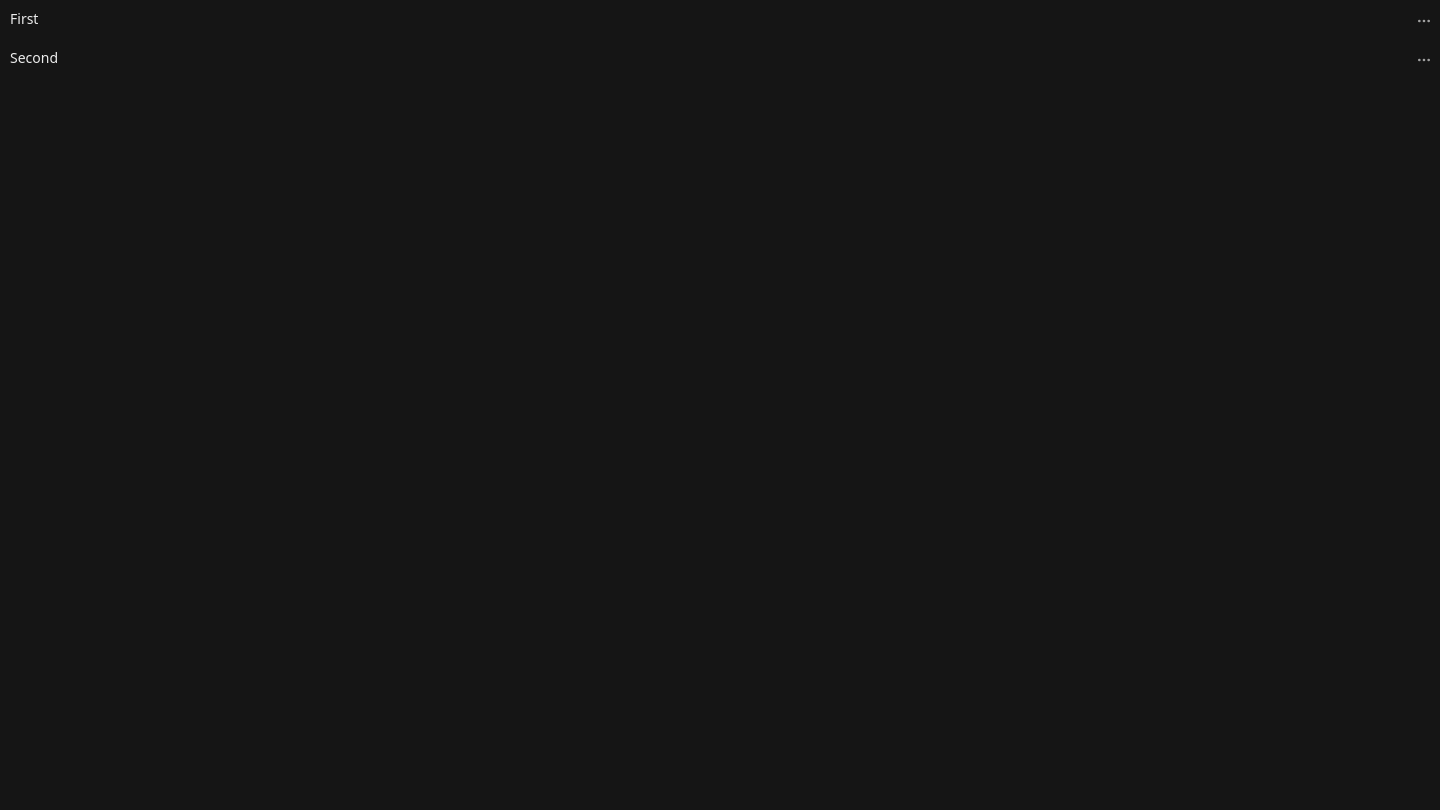
Test: sidebar session actions › uses an accessible rename dialog, keeps failed input, and submits the selected session
Click the button named "更多會話操作 Second": (1423, 60) left=1410, top=47, right=1436, bottom=73
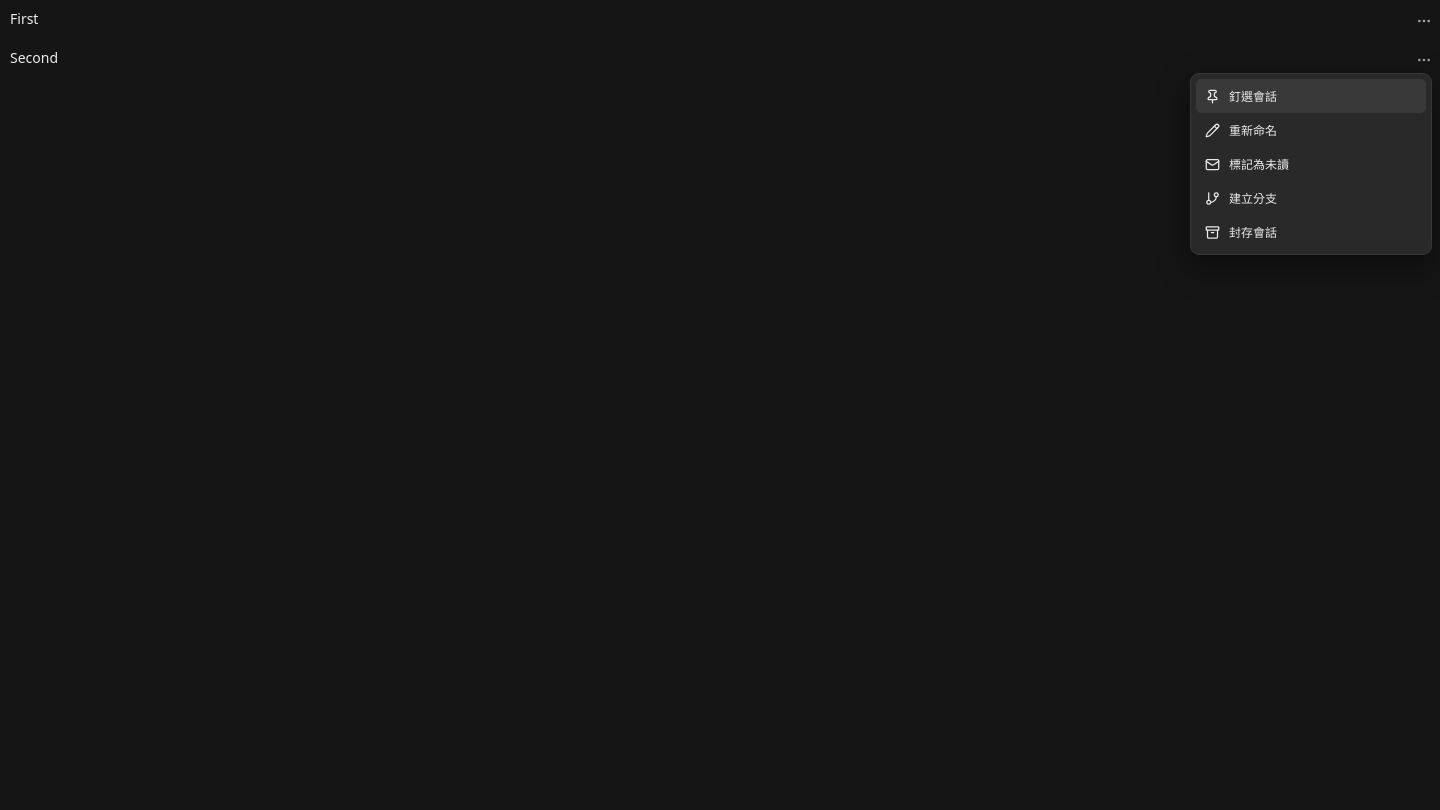
Click the menu item "重新命名": (1311, 130) left=1196, top=113, right=1426, bottom=147
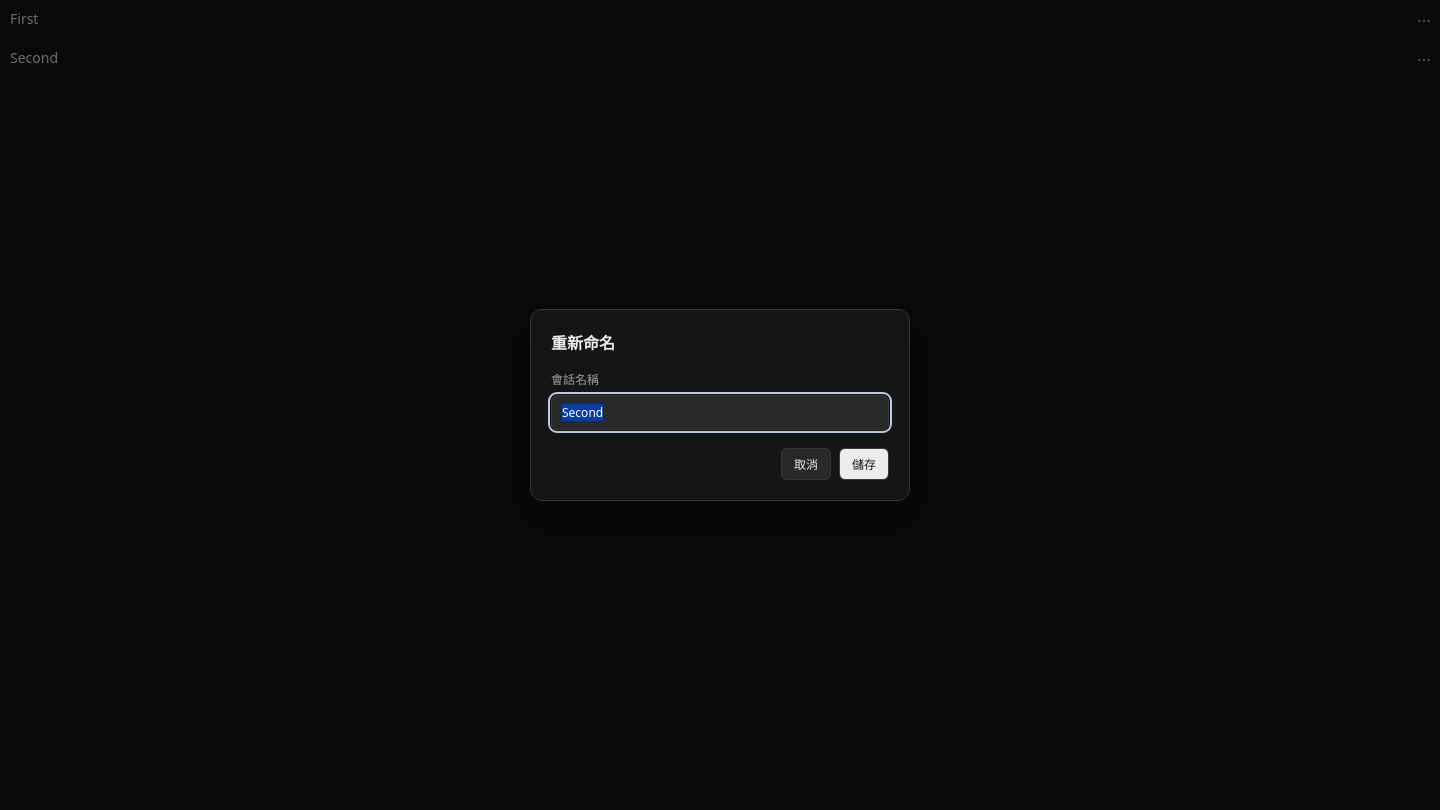
expect the dialog "重新命名" is shown: met, box left=530, top=309, right=910, bottom=501
Replace the text in the field labelled "會話名稱" with "Updated": (720, 412) left=551, top=395, right=889, bottom=430
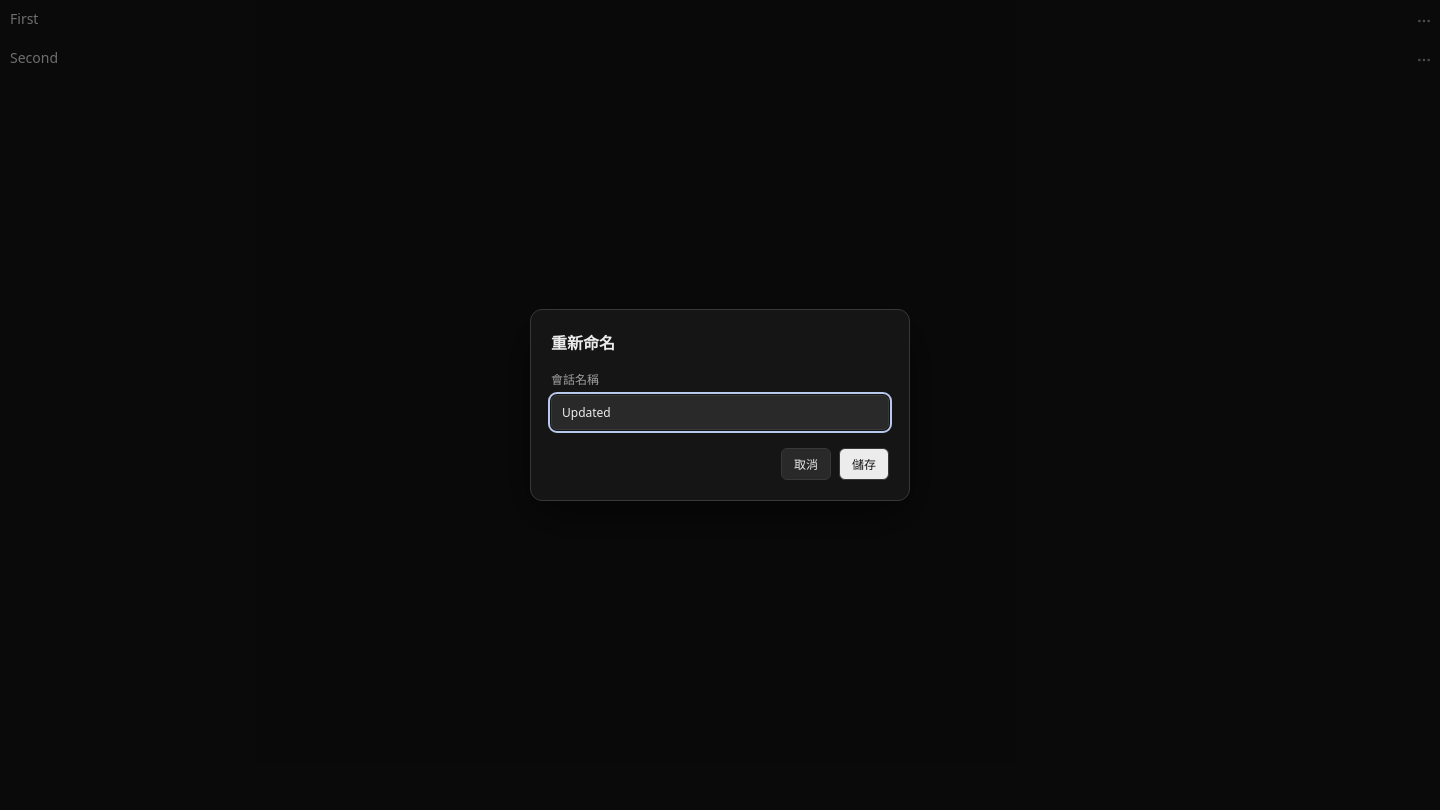
Click the button "儲存": (864, 464) left=839, top=448, right=889, bottom=480
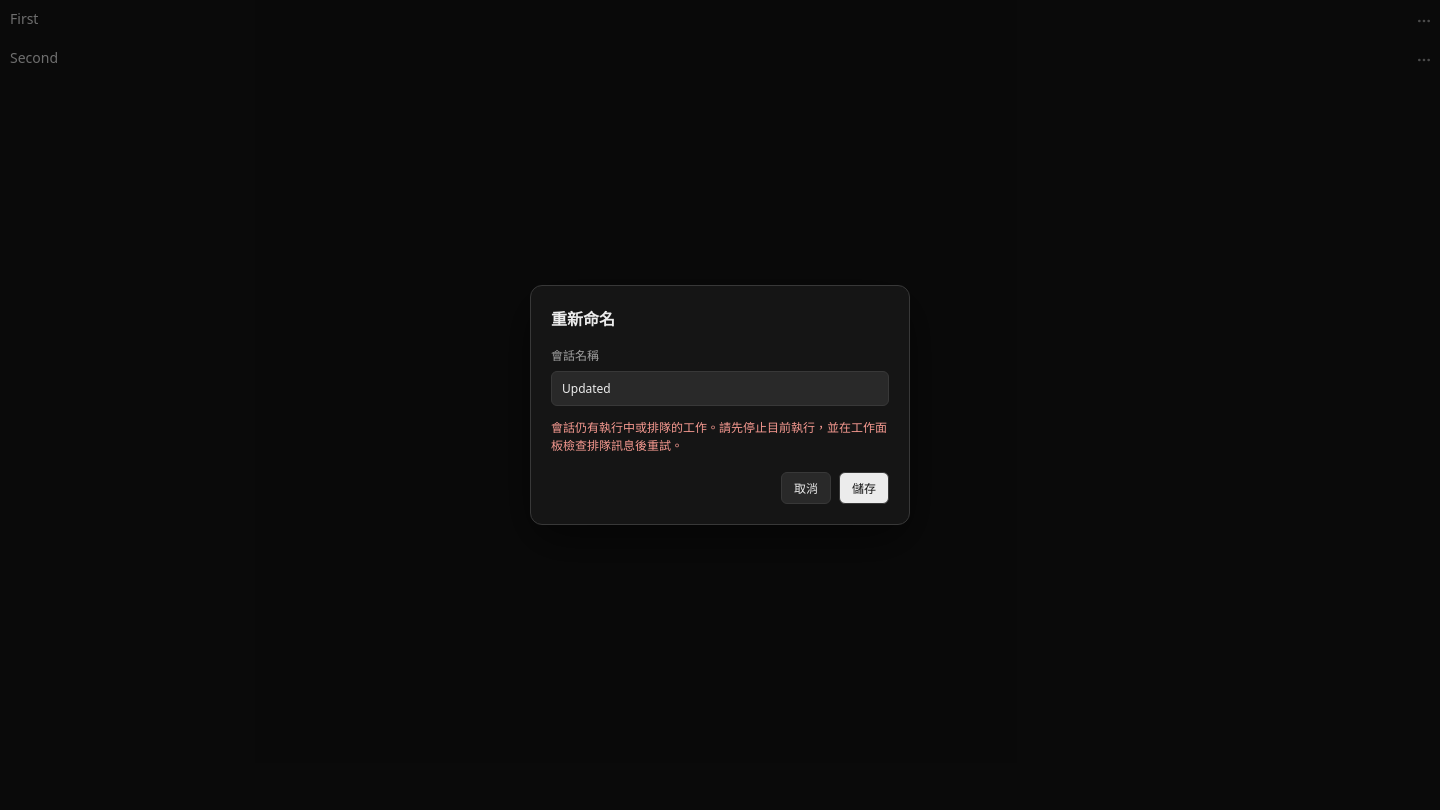
expect the message shows "請先停止目前執行": met, box left=551, top=419, right=887, bottom=454
Press Escape in the dialog, box left=530, top=285, right=910, bottom=525
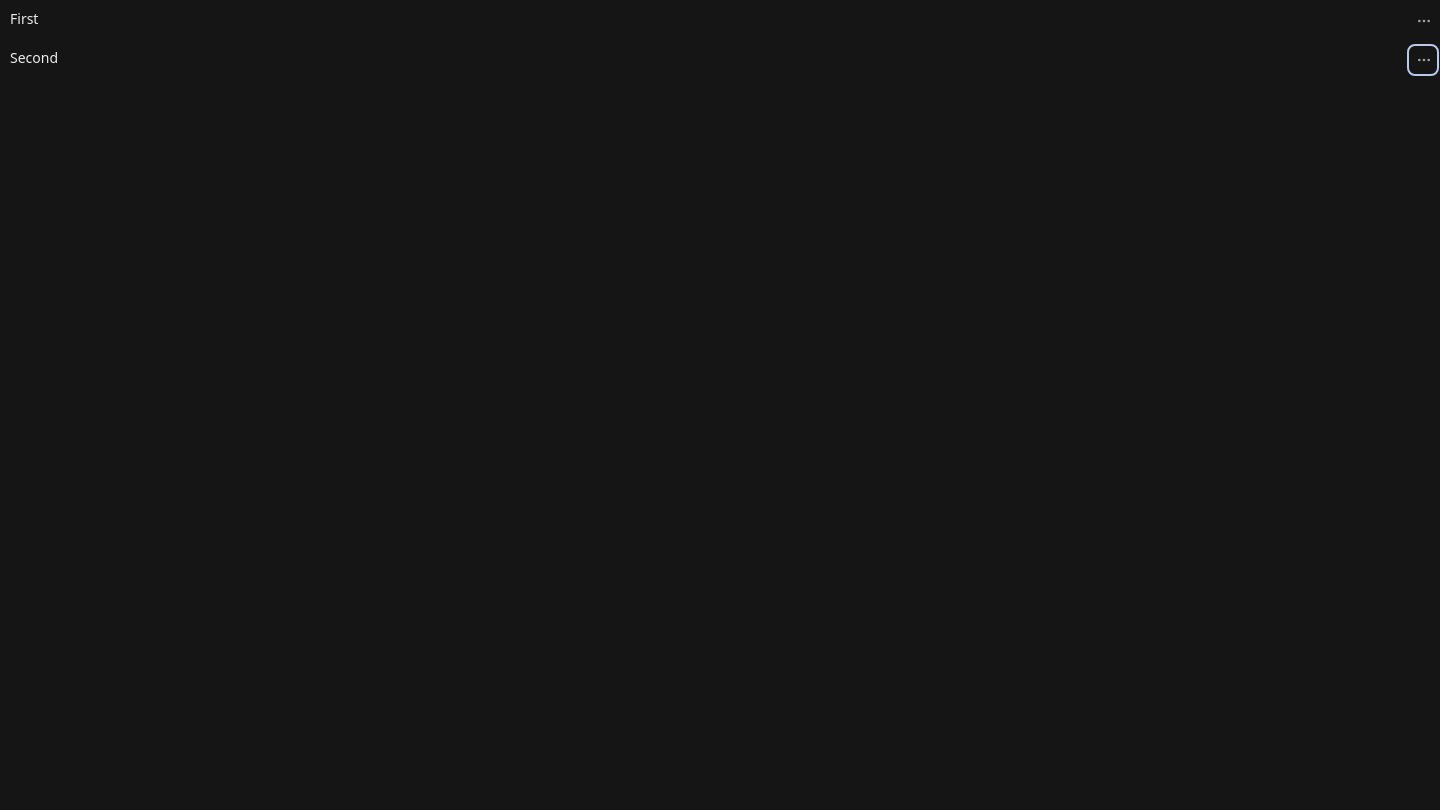
expect the dialog is gone: met
